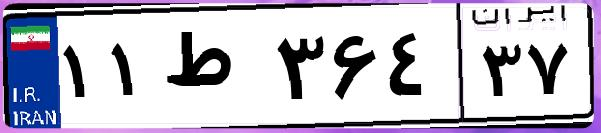1: (57, 26, 110, 100), (110, 28, 158, 98)
3: (270, 28, 330, 110), (475, 38, 525, 113)
4: (385, 28, 445, 110)
6: (330, 28, 385, 110)
7: (525, 38, 570, 115)
ط: (158, 20, 270, 120)
